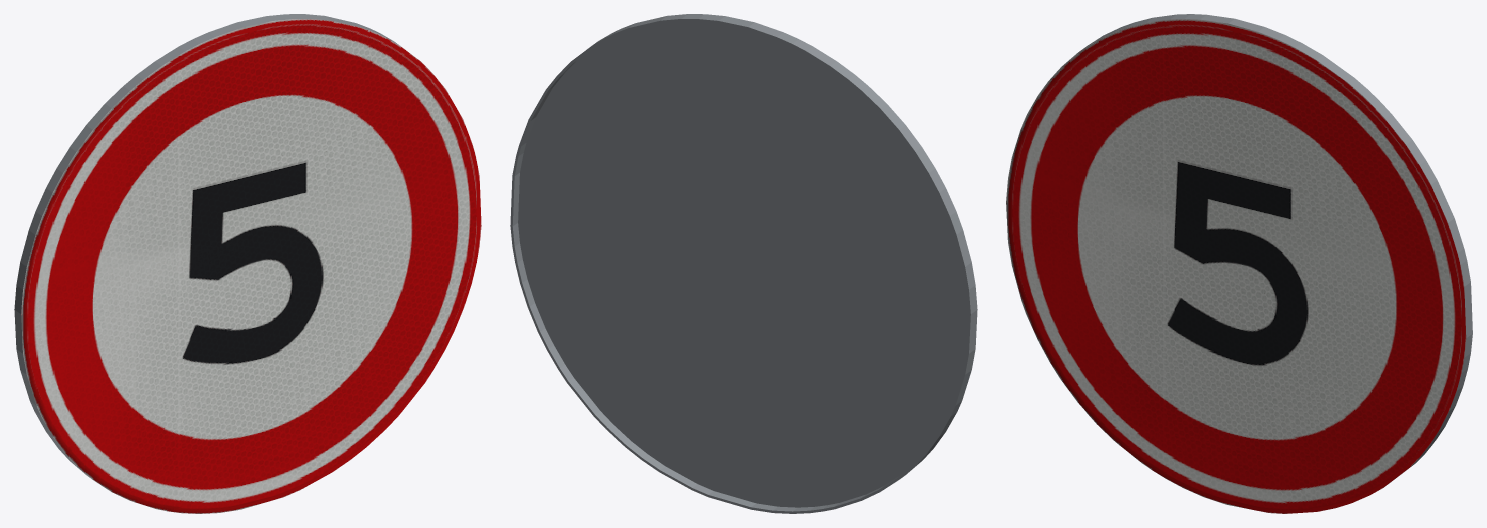
3 renders of one model, left to right at view 1: azimuth 30°, elevation 25°; view 2: azimuth 150°, elevation 25°; view 3: azimuth 330°, elevation 25°, orthographic.
Visible parts, largest first — view 1: cat_6cfd4e134c2b8bdf; view 2: cat_6cfd4e134c2b8bdf; view 3: cat_6cfd4e134c2b8bdf.
Part boxes in pixels (x1,y1,x2,y2): cat_6cfd4e134c2b8bdf: (14,14,481,513); cat_6cfd4e134c2b8bdf: (510,14,977,513); cat_6cfd4e134c2b8bdf: (1006,14,1472,513).
Size of the model in its own units: 0.6 by 0.015 by 0.6.
Materials: 2 (1 with a texture image).
